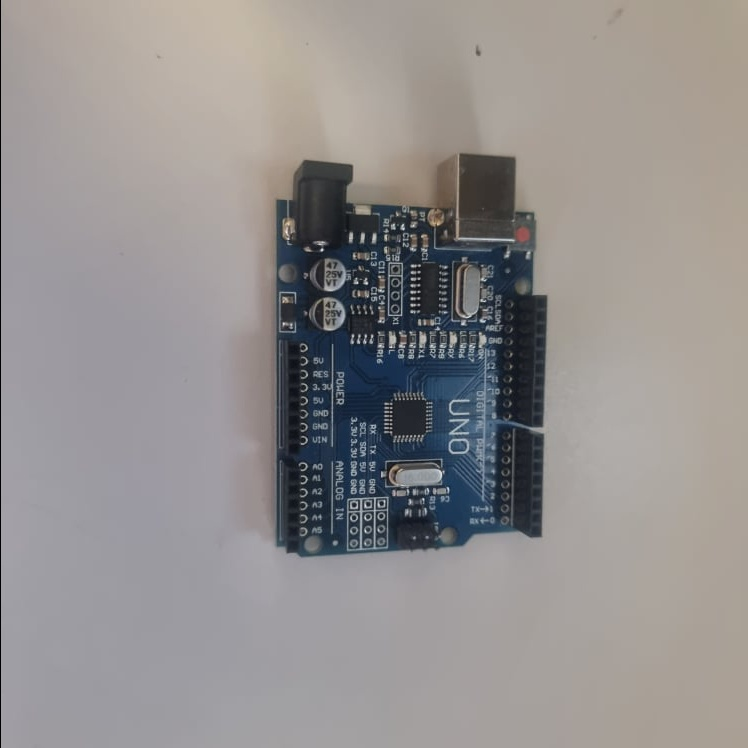UNO R3: (271, 153, 548, 558)
